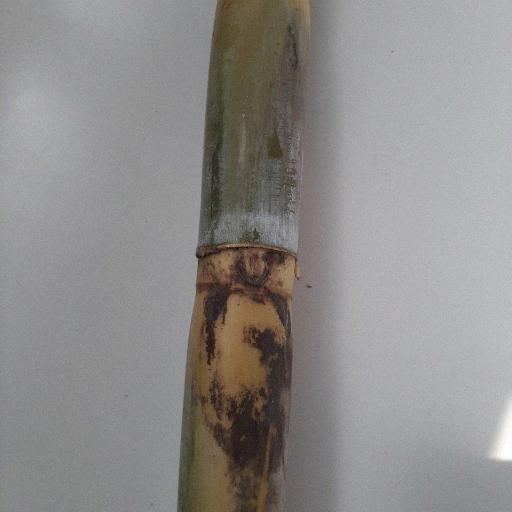Bud: (239, 252, 268, 286)
